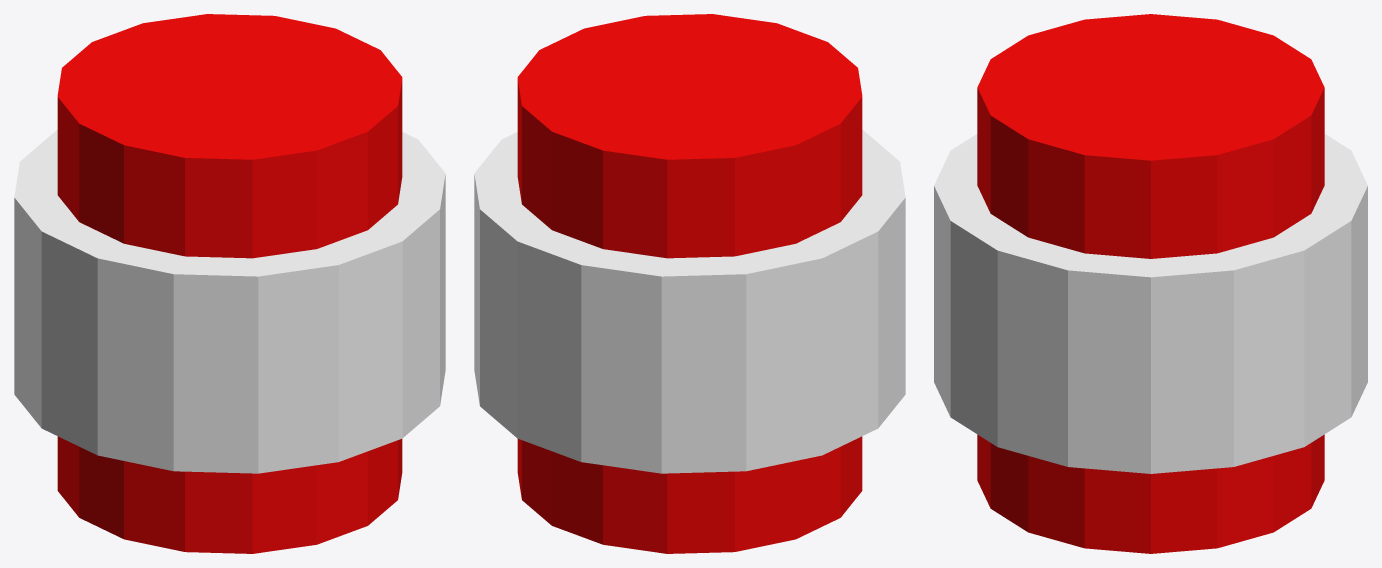
The model's file is tower.dae.
3 renders of one model, left to right at view 1: azimuth 30°, elevation 25°; view 2: azimuth 150°, elevation 25°; view 3: azimuth 270°, elevation 25°, orthographic.
Visible parts, largest first — view 1: tower; view 2: tower; view 3: tower.
Part boxes in pixels (bbox=[...]): tower: bbox=[14, 14, 445, 553]; tower: bbox=[474, 14, 905, 553]; tower: bbox=[934, 14, 1367, 553].
Bounding box in the file's own units: 1 × 1 × 1.
Materials: 1 (1 with a texture image).
